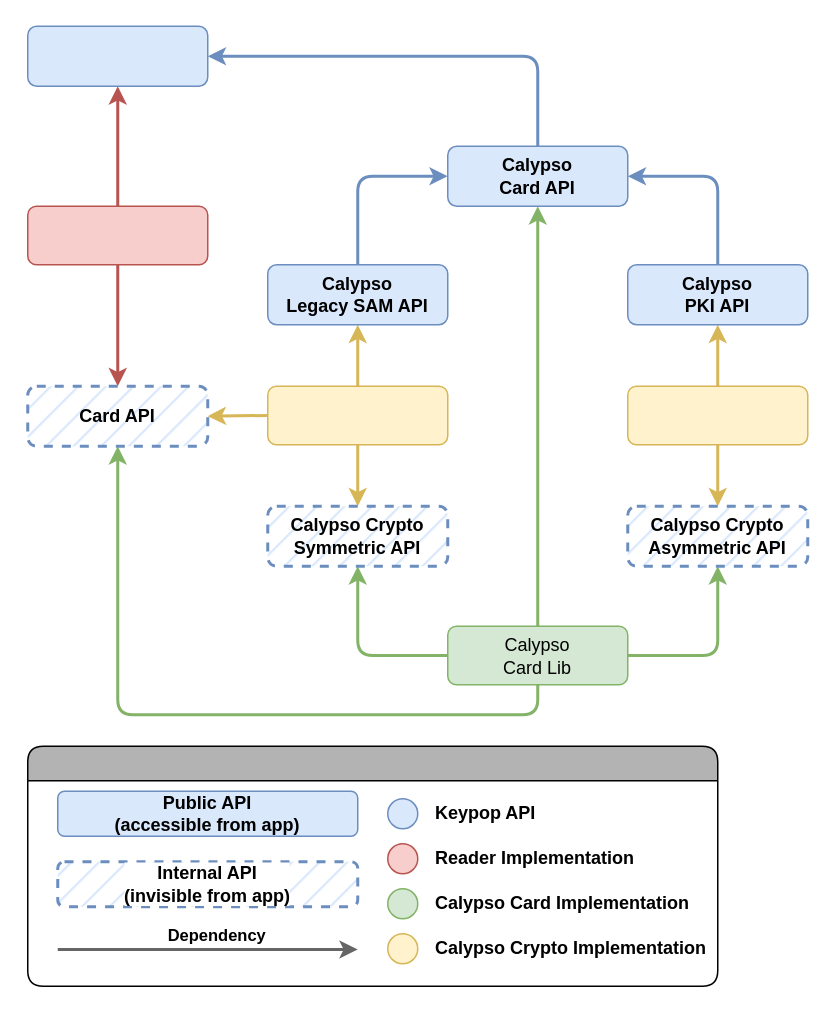
Some shapes in this 834 by 1013 pixel diagram are drawn without their labels. Each missing label, with the box of its shape:
Calypso Legacy SAM Lib: (266, 385, 448, 445)
Calypso PKI Lib: (626, 385, 808, 445)
Legend: (26, 745, 718, 986)
Reader API: (26, 25, 208, 86)
Reader Lib: (26, 205, 208, 265)
